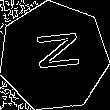N_W: (27, 34, 81, 79)
